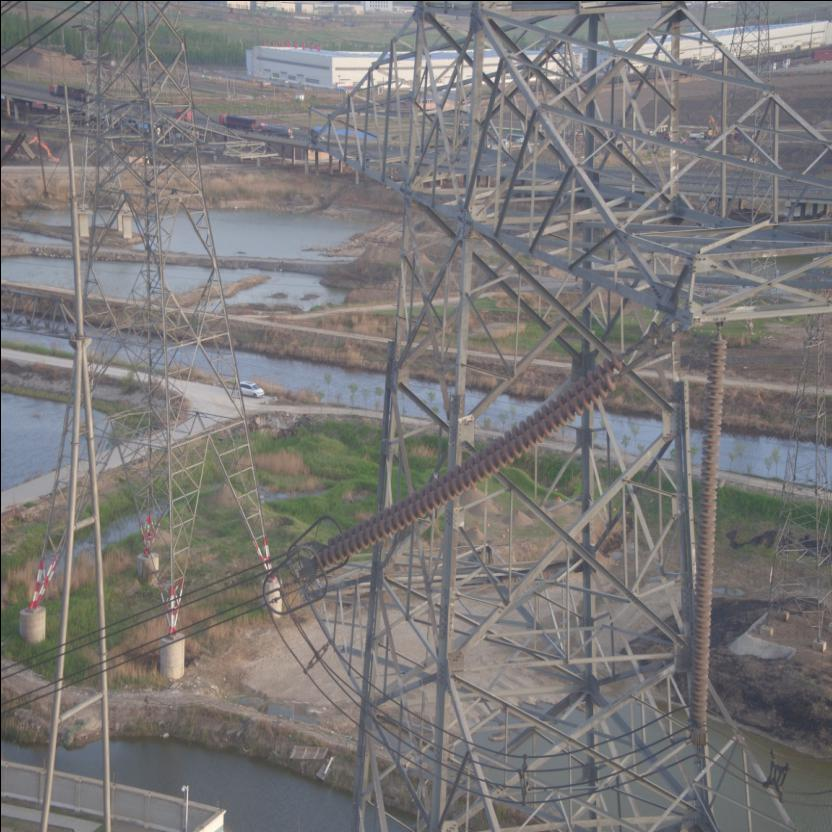insulator: (312, 344, 635, 570)
